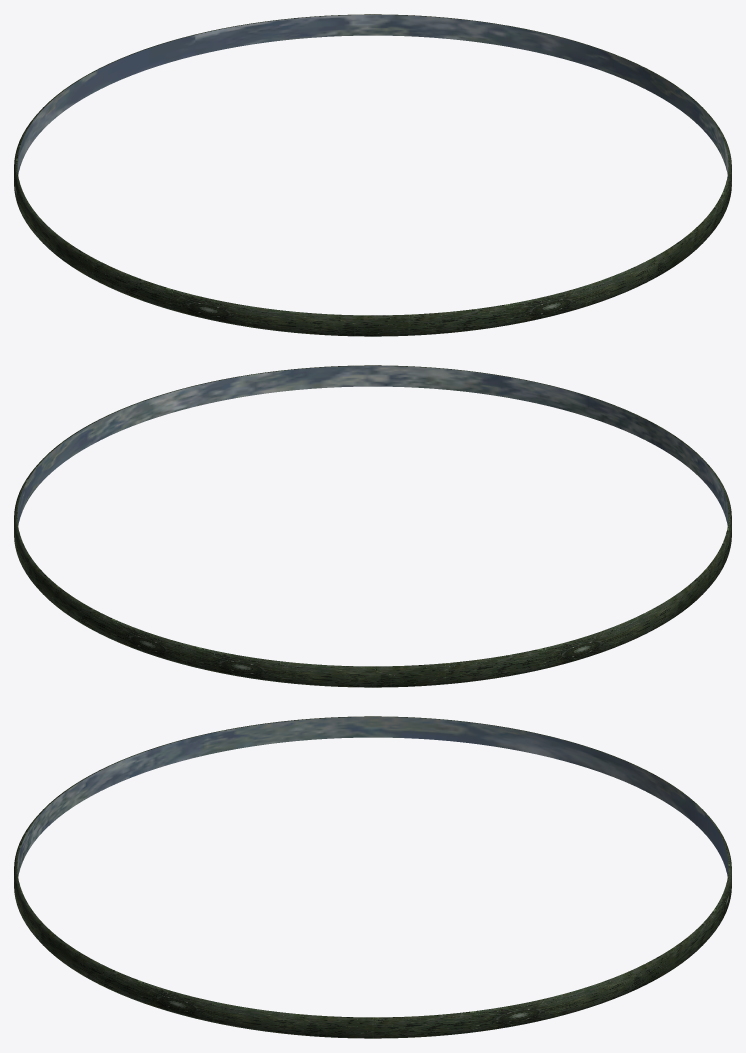
The model's file is halo.obj.
3 renders of one model, top to bottom at view 1: azimuth 30°, elevation 25°; view 2: azimuth 150°, elevation 25°; view 3: azimuth 270°, elevation 25°, orthographic.
Visible parts, largest first — view 1: Halo:Halo:polySurface2; view 2: Halo:Halo:polySurface2; view 3: Halo:Halo:polySurface2.
Part boxes in pixels (<box>): Halo:Halo:polySurface2: <box>14,14,731,336</box>; Halo:Halo:polySurface2: <box>14,365,731,687</box>; Halo:Halo:polySurface2: <box>14,716,731,1038</box>.
Size of the model in its own units: 2.55 by 0.0811 by 2.55.
